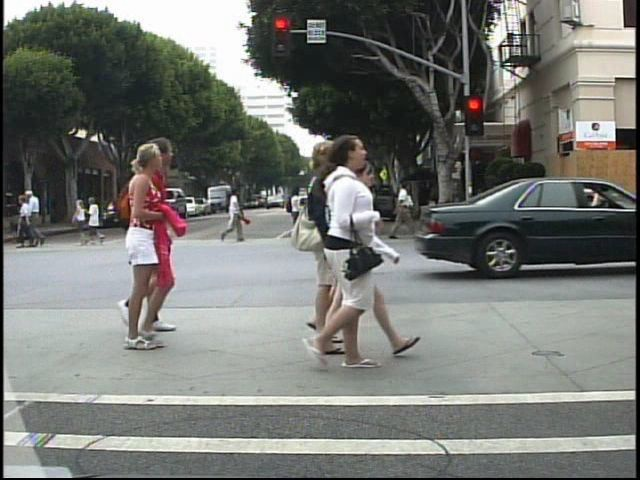person: (99, 145, 186, 354), (312, 136, 384, 376), (327, 159, 404, 370), (274, 146, 337, 356), (145, 140, 198, 336), (389, 177, 422, 240), (220, 184, 246, 250), (283, 183, 306, 242), (29, 187, 49, 250), (16, 197, 39, 251), (365, 187, 380, 223)
